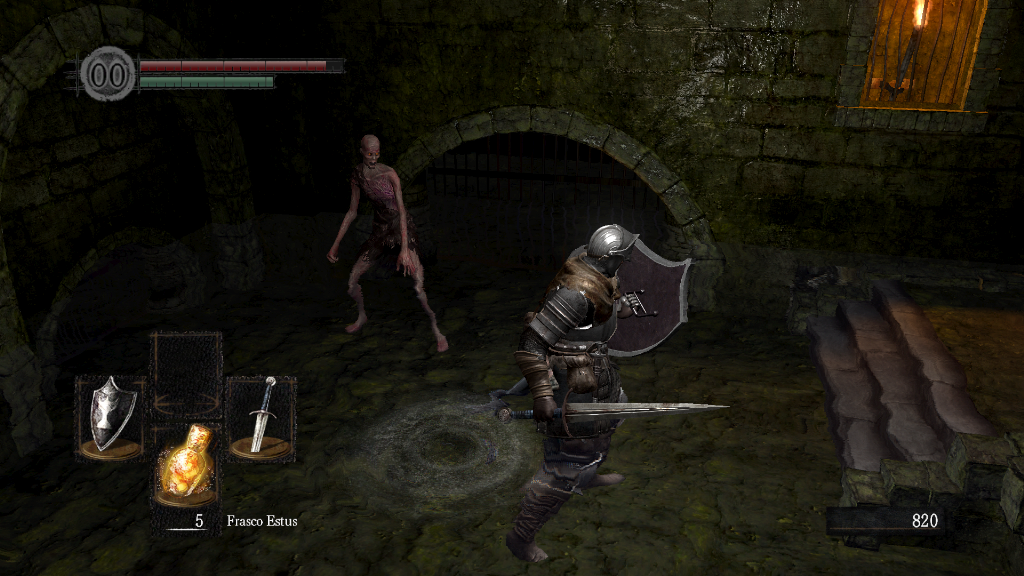health: (138, 58, 343, 71)
hollow: (326, 132, 449, 353)
humanity: (80, 45, 136, 102)
player: (492, 223, 733, 569)
souls: (825, 506, 945, 536)
stamina: (138, 74, 274, 88)
